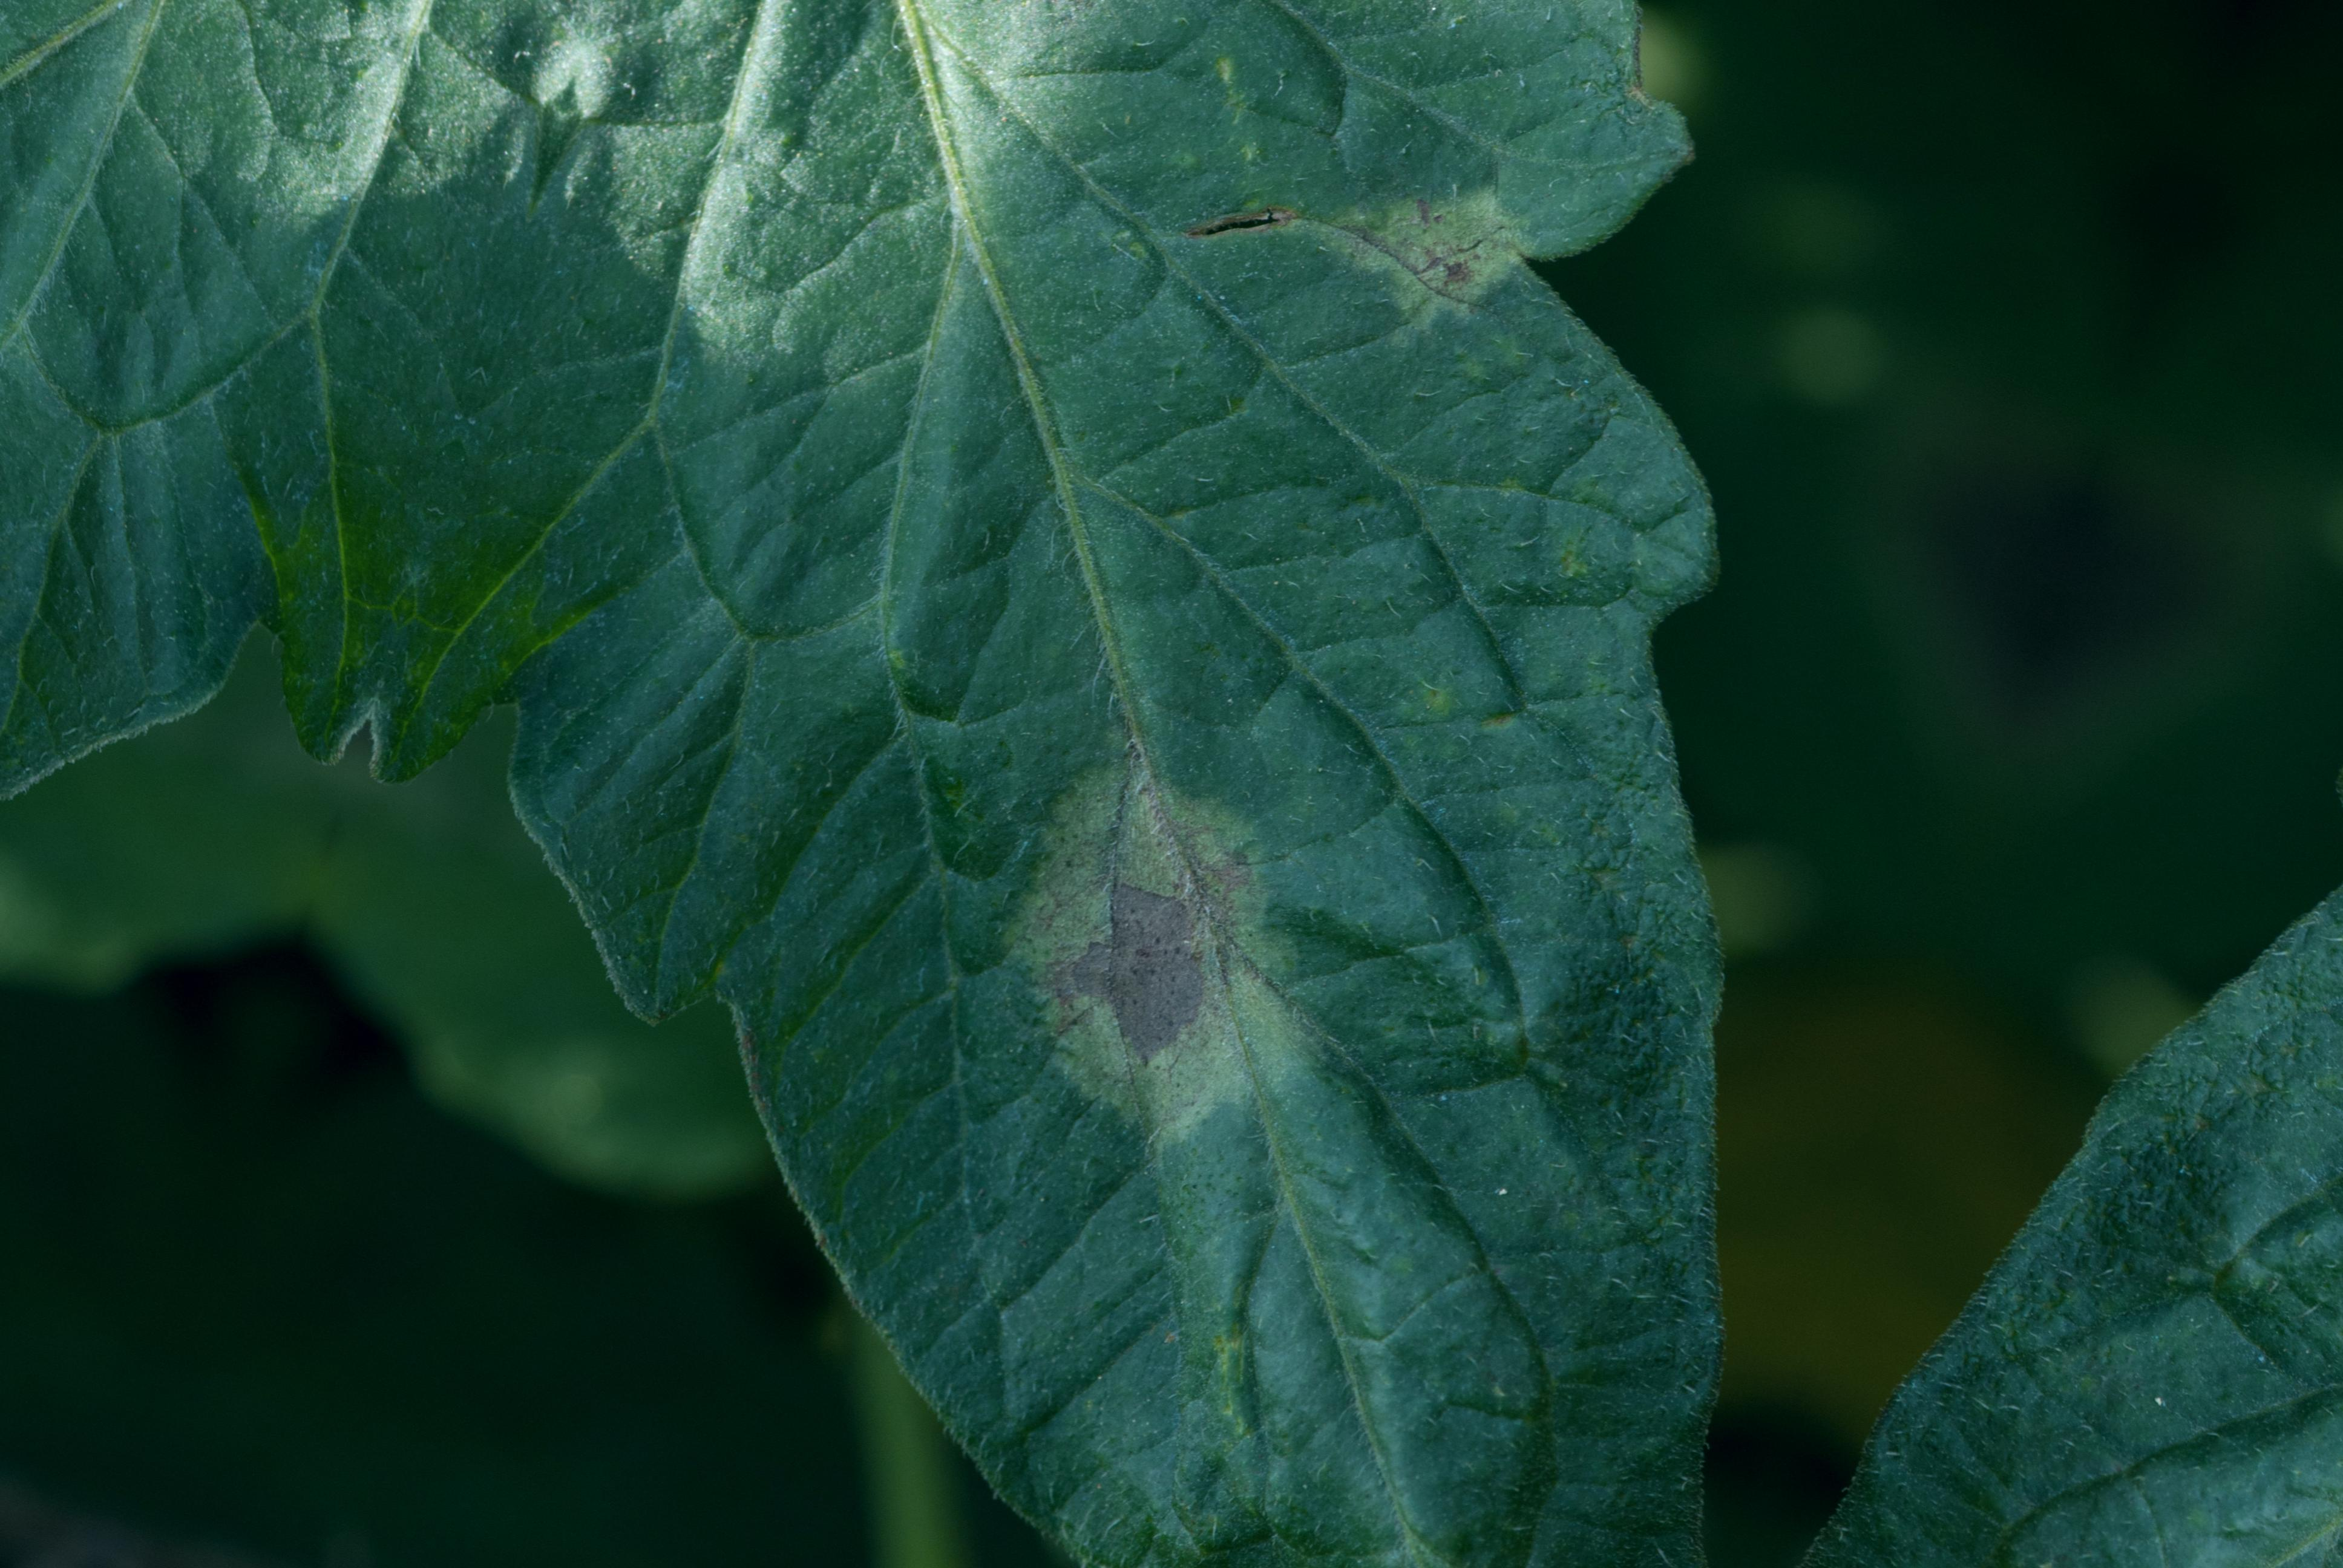Tomato leaf late blight: (129, 0, 2231, 1568)
